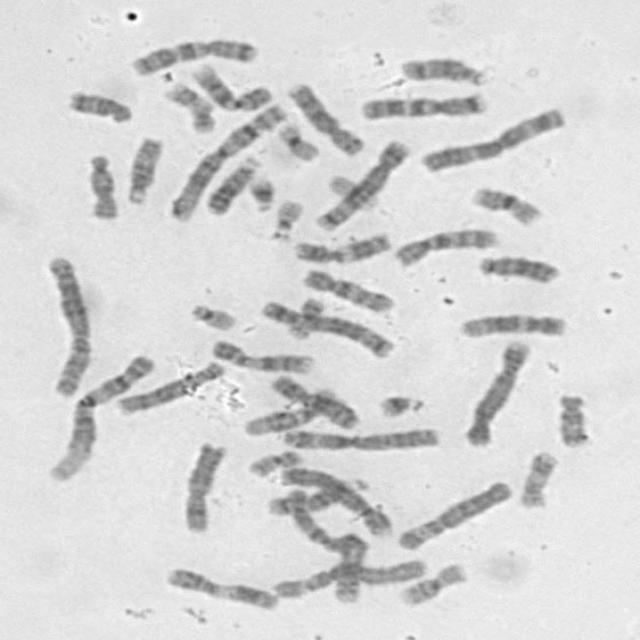A1: (164, 99, 290, 223), (44, 349, 160, 483)
A2: (287, 490, 372, 608), (38, 250, 96, 399)
A3: (414, 102, 570, 174), (278, 422, 443, 453)
B4: (273, 462, 395, 538), (459, 334, 533, 448)
B5: (310, 134, 412, 233), (255, 295, 398, 359)
C10: (295, 263, 396, 314), (388, 223, 502, 268)
C11: (160, 562, 282, 612), (289, 228, 395, 266)
C12: (240, 382, 340, 437), (453, 308, 571, 340)
C6: (390, 475, 516, 552), (266, 553, 429, 600)
C7: (124, 33, 262, 77), (353, 87, 490, 121)
C8: (109, 355, 227, 418), (282, 77, 369, 158)
C9: (186, 57, 276, 113), (205, 334, 318, 376)
D13: (200, 150, 263, 217), (472, 249, 564, 286)
D14: (261, 472, 370, 517), (395, 52, 490, 87)
D15: (121, 132, 166, 206), (81, 149, 122, 221)
E16: (394, 558, 471, 608), (466, 182, 544, 228)
E17: (160, 78, 218, 135), (514, 446, 560, 510)
E18: (62, 84, 136, 125), (552, 388, 594, 449)
F19: (322, 170, 382, 212), (272, 116, 322, 162)
F20: (242, 444, 306, 479), (282, 293, 328, 340)
G21: (371, 389, 428, 420), (244, 172, 278, 213)
G22: (266, 194, 306, 242), (184, 298, 240, 332)
X: (266, 370, 366, 431), (177, 439, 230, 535)
